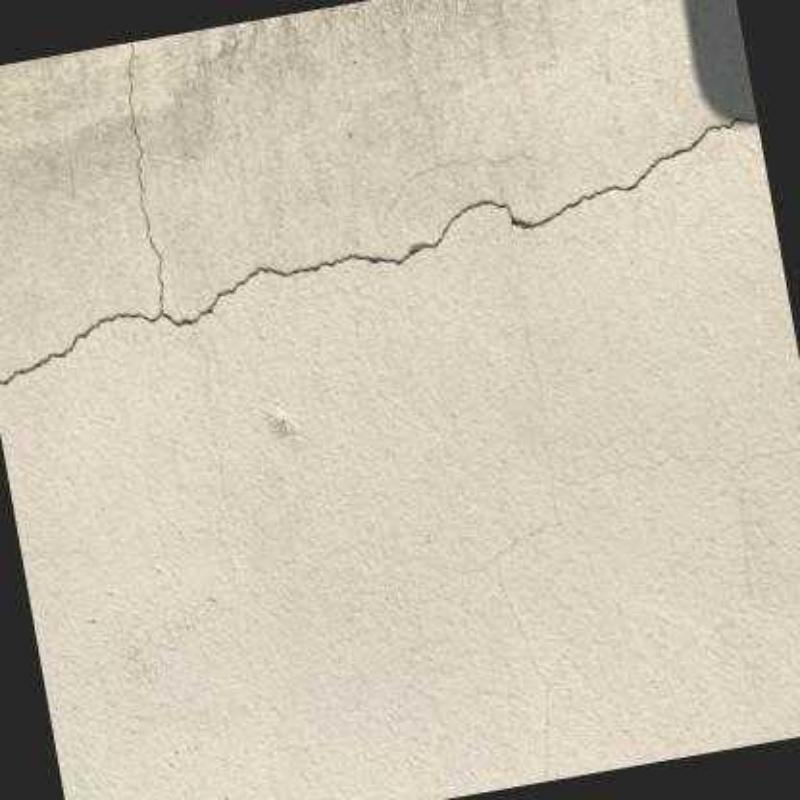crack: (0, 112, 756, 387), (127, 42, 165, 313)
